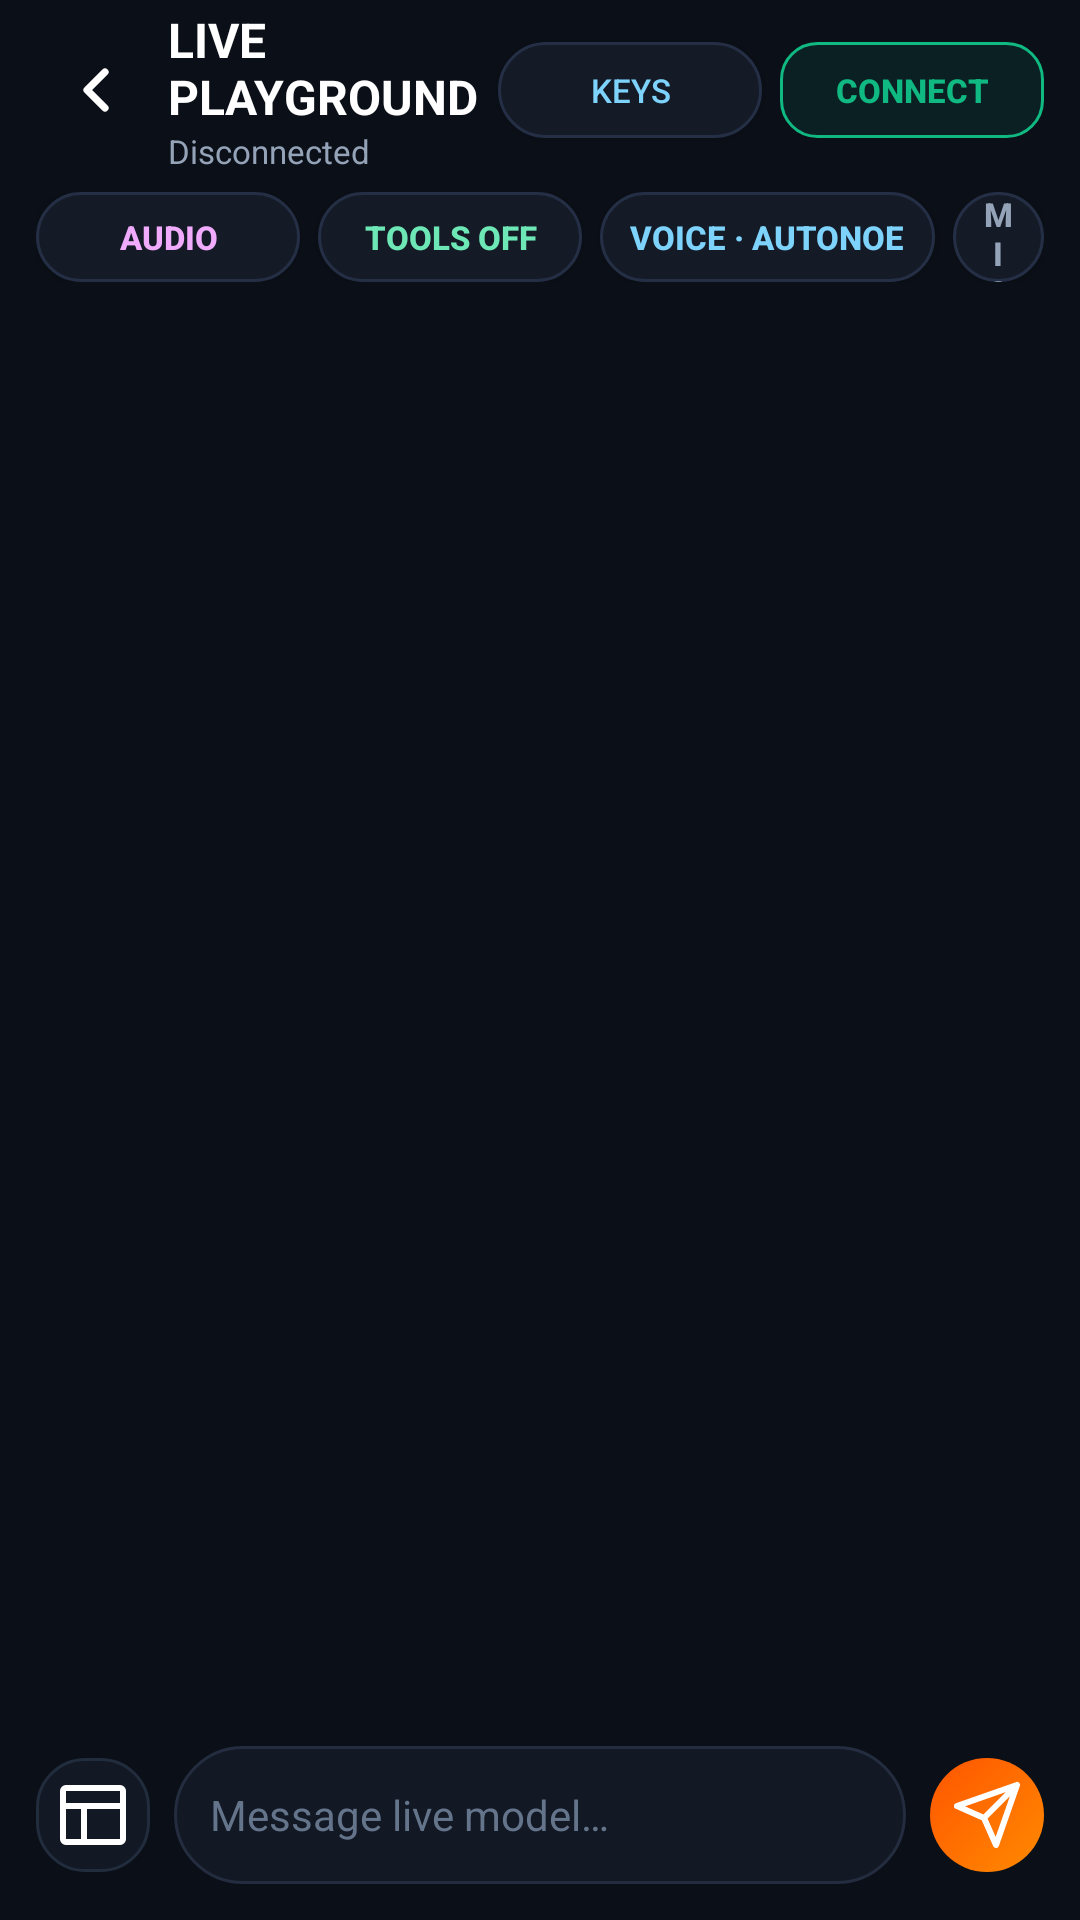

Named icons in this screenshot (1080px×1920px) and their bounding boxes, (x1=x1, y1=y1, x2=x2, y2=y2):
Send: (x1=930, y1=1758, x2=1044, y2=1872)
